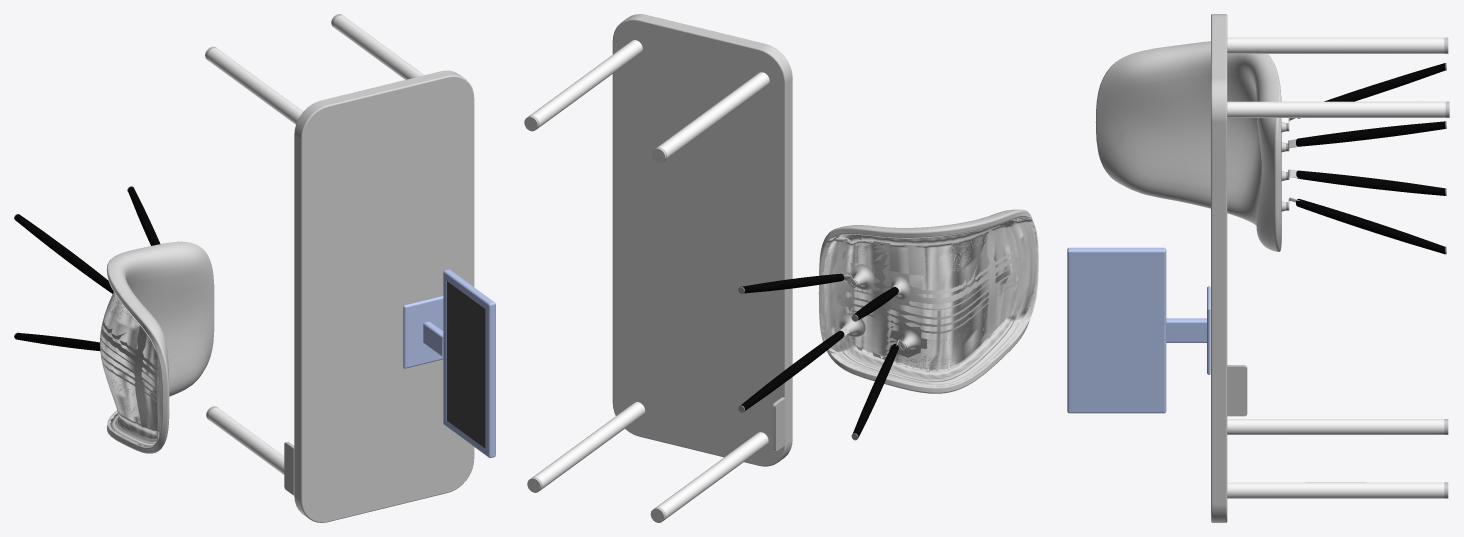
The model's file is myhome.glb.
3 renders of one model, left to right at view 1: azimuth 30°, elevation 25°; view 2: azimuth 150°, elevation 25°; view 3: azimuth 270°, elevation 25°, orthographic. The views are drawn at different scales.
Parts seen in each view (by area): view 1: desk_top.001, Chair body_thick, Body3.003, Chair body.001, monitor_top.001, monitor_bottom.001, Body3.001, Body2.001, Body4.001, Leg (2), Leg (3), Leg (1); view 2: desk_top.001, Chair body.001, Chair body_thick, Body2.001, desk_leg1.001, Body4.001, Body3.001, Leg, Leg (1), Leg (3), Body2.003; view 3: Chair body_thick, monitor_top.001, desk_top.001, Body2.001, Body3.001, desk_leg1.001, Body4.001, Leg (1), Leg, Leg (3), Leg (2), Body2.003 (+1 smaller).
Part boxes in pixels (x1,y1,x2,y2): desk_top.001: (294, 70, 474, 522); Chair body_thick: (100, 241, 214, 453); Body3.003: (447, 281, 485, 448); Chair body.001: (100, 277, 162, 447); monitor_top.001: (443, 269, 495, 457); monitor_bottom.001: (403, 296, 443, 368); Body3.001: (207, 48, 303, 124); Body2.001: (333, 15, 424, 79); Body4.001: (208, 407, 284, 474); Leg (2): (14, 214, 113, 293); Leg (3): (14, 333, 100, 350); Leg (1): (128, 186, 160, 245); desk_top.001: (612, 14, 792, 466); Chair body.001: (818, 217, 1038, 387); Chair body_thick: (819, 209, 1037, 393); Body2.001: (529, 40, 642, 127); desk_leg1.001: (532, 402, 645, 489); Body4.001: (656, 432, 768, 519); Body3.001: (657, 72, 769, 159); Leg: (740, 330, 844, 411); Leg (1): (741, 273, 844, 293); Leg (3): (853, 344, 898, 437); Body2.003: (773, 397, 785, 450); Chair body_thick: (1095, 41, 1286, 251); monitor_top.001: (1067, 247, 1166, 413); desk_top.001: (1211, 14, 1227, 522); Body2.001: (1227, 101, 1445, 117); Body3.001: (1227, 37, 1444, 53); desk_leg1.001: (1227, 482, 1444, 498); Body4.001: (1227, 419, 1444, 434); Leg (1): (1296, 121, 1445, 146); Leg: (1296, 199, 1445, 254); Leg (3): (1296, 170, 1445, 195); Leg (2): (1297, 63, 1445, 118); Body2.003: (1227, 365, 1247, 416).
Bounding box in the file's own units: 0.0697 × 0.0759 × 0.0597.
